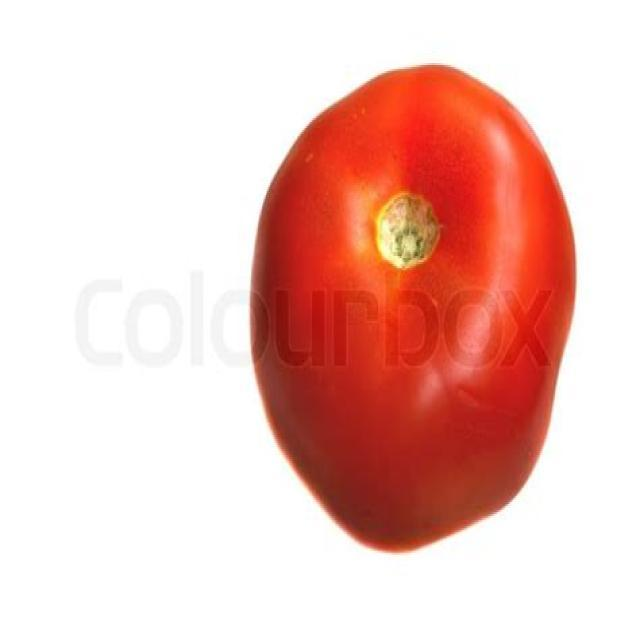Tomato: (251, 67, 576, 555)
